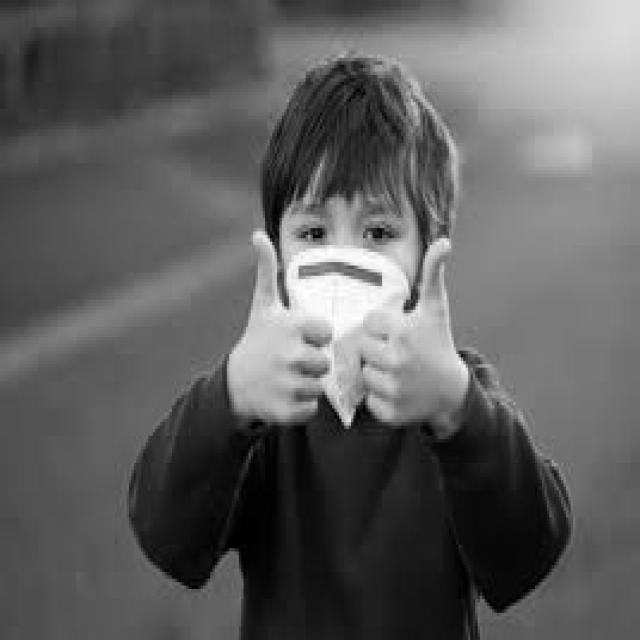without_mask: (280, 242, 413, 426)
